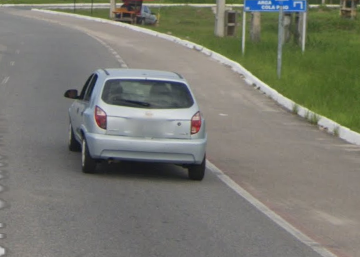car: (61, 65, 209, 183)
